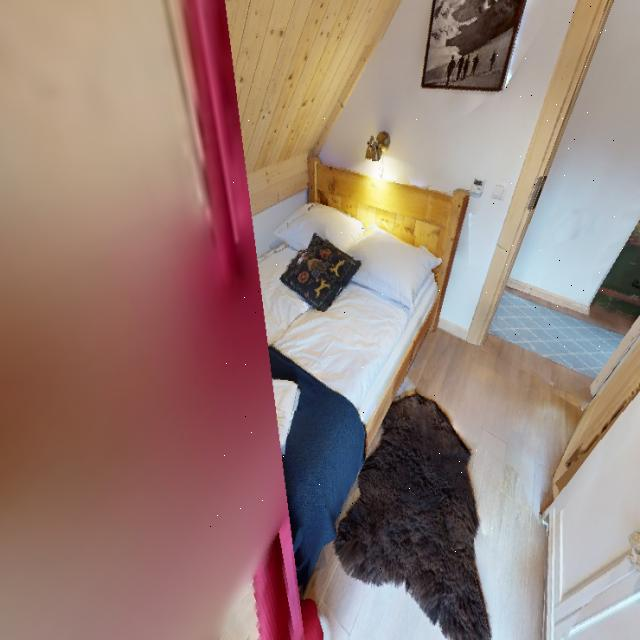bed: (210, 118, 506, 571)
door-frame: (475, 0, 640, 359)
